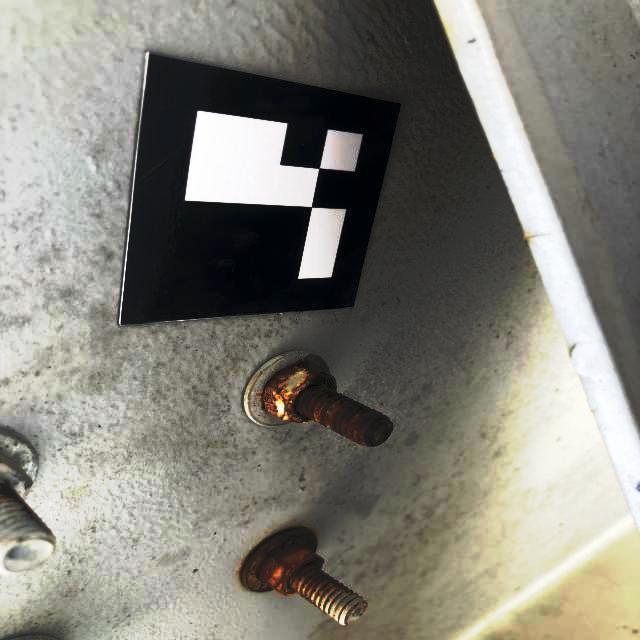Corrosion: (259, 362, 394, 448), (239, 526, 353, 622), (0, 482, 34, 515)
